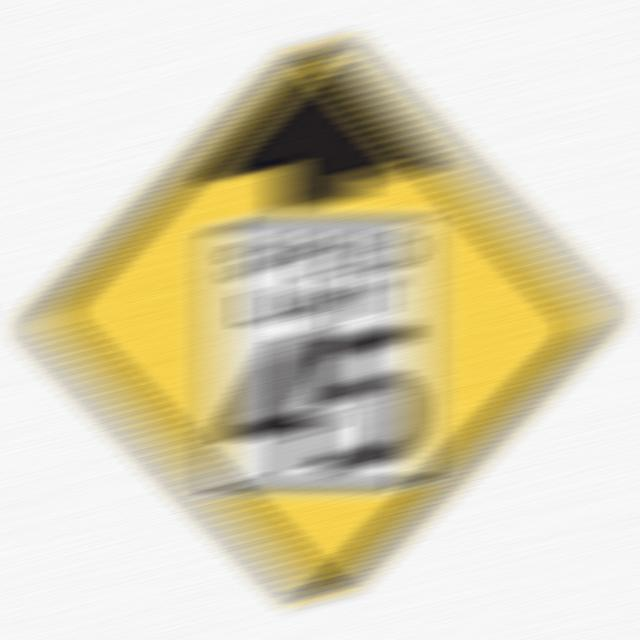speedLimit45: (202, 216, 438, 507)
